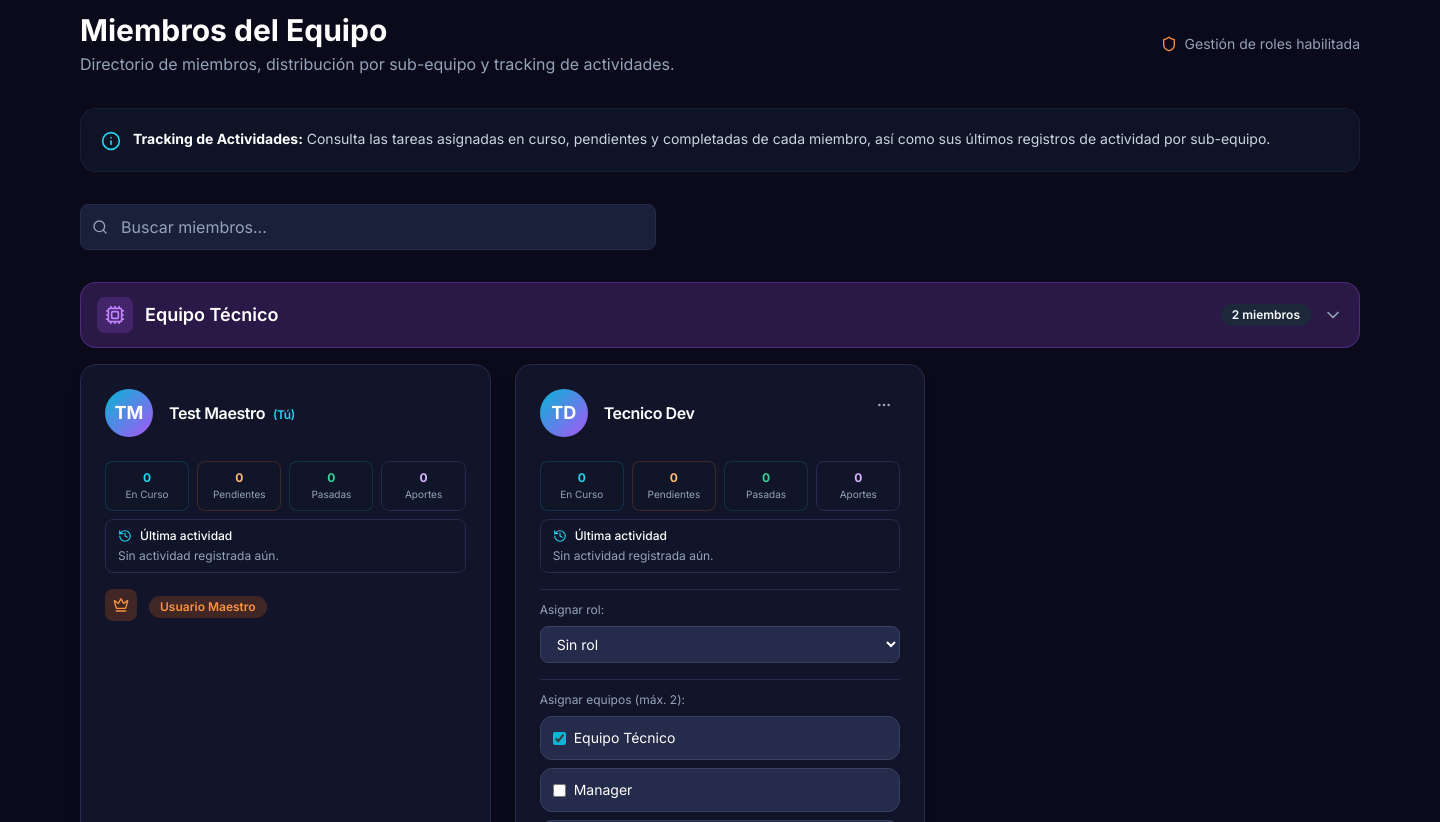
Scenario: Members › filters members by search query
Expected: the link "Test Maestro" is shown, [169, 403, 265, 423]
Type "Admin" into the search field with placeholder "Buscar miembros..." at (368, 227), box [80, 204, 656, 250]
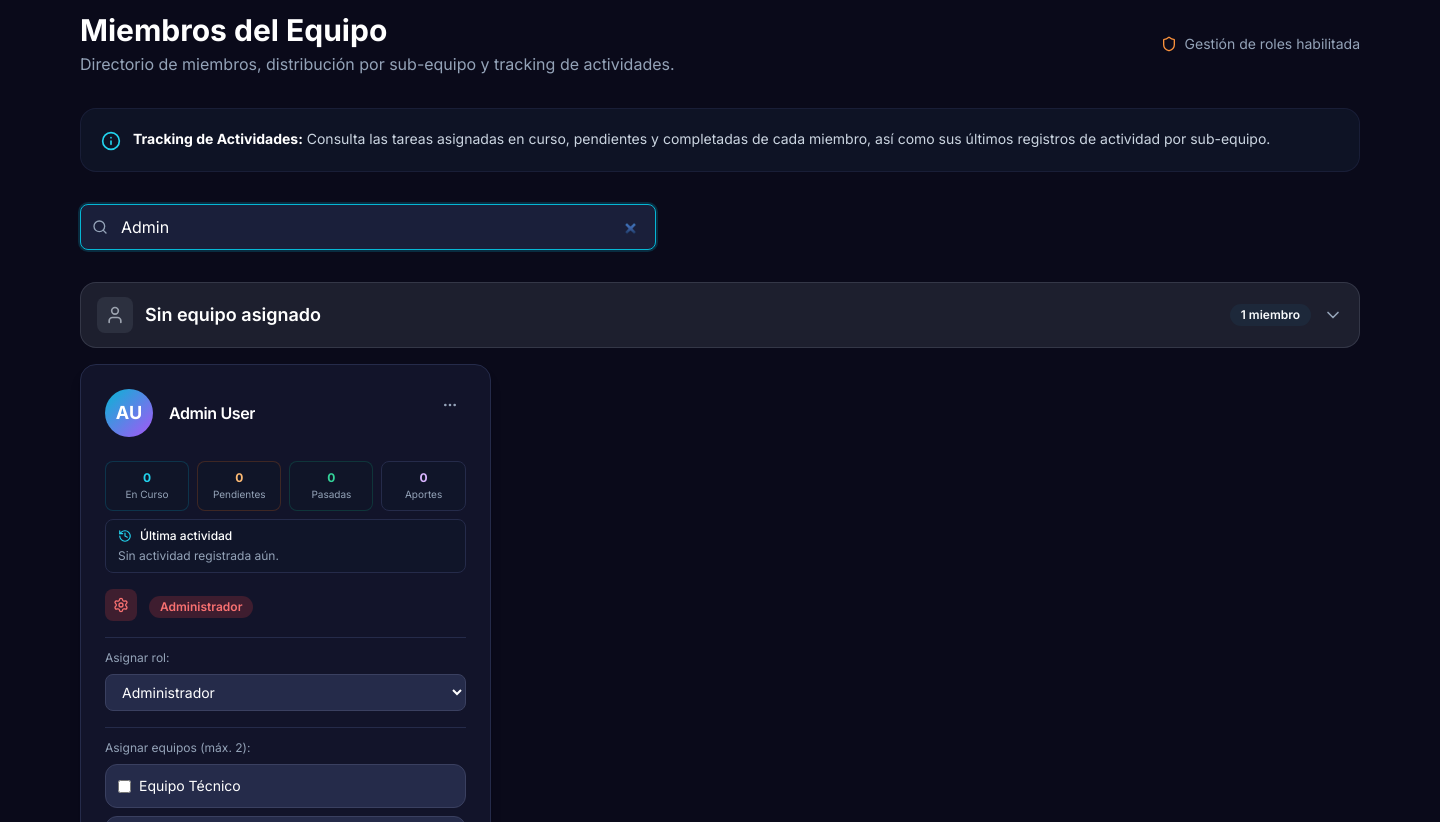
Expected: the link "Admin User" is shown, [169, 403, 255, 423]
Result: the link "Test Maestro" is gone
Result: the link "Tecnico Dev" is gone
